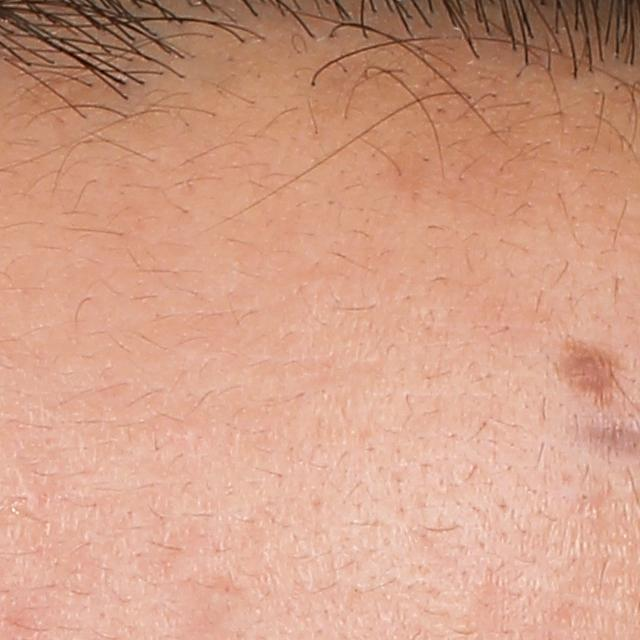melasma: (557, 341, 624, 390)
